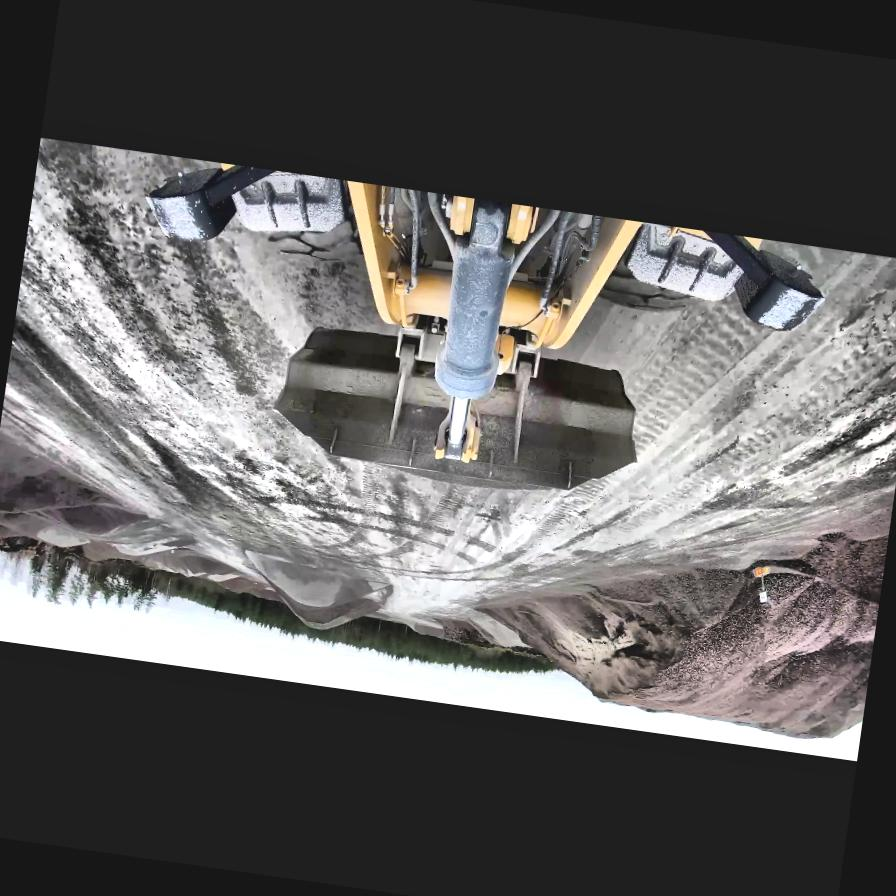anchor: (430, 392, 486, 464)
pile of gravel: (503, 468, 890, 746), (570, 641, 867, 747), (524, 587, 690, 707), (234, 548, 388, 637), (465, 592, 613, 679), (0, 442, 122, 528), (25, 492, 149, 543), (90, 510, 200, 561), (134, 542, 240, 584), (283, 592, 378, 637), (76, 536, 148, 568), (434, 618, 499, 649), (110, 536, 182, 562), (33, 521, 89, 549), (211, 572, 269, 598), (0, 529, 45, 557), (294, 611, 350, 633), (406, 622, 447, 638), (200, 568, 238, 585), (132, 556, 166, 570), (170, 565, 204, 579), (256, 586, 282, 601)
